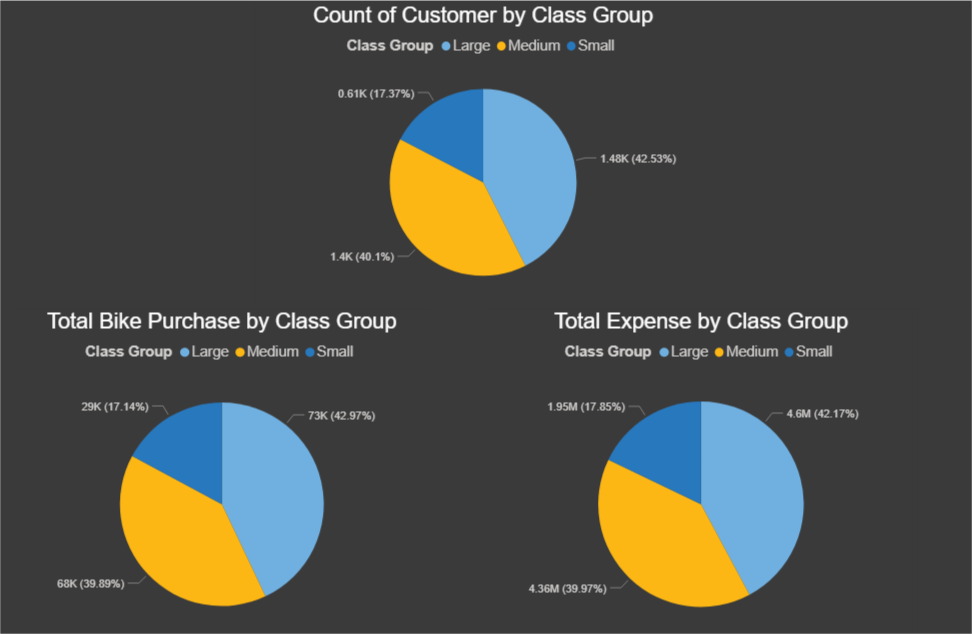

What the dashboard file says about the page in this screenshot:
{"tool":"powerbi","page":{"name":"TransactionsValue","canvas":[1280,720],"ordinal":2},"visuals":[{"type":"pieChart","title":"Count of Customer by Class Group","fields":{"Y":["CountNonNull(TransactionsValue.customer_id)"],"Series":["TransactionsValue.property_class"]},"box":[477,11,499.1,336.9],"z":0},{"type":"pieChart","title":"Total Bike Purchase by Class Group","fields":{"Y":["Sum(TransactionsValue.past_3_years_bike_related_purchases)"],"Series":["TransactionsValue.property_class"]},"box":[211,347.9,455,371.6],"z":1000},{"type":"pieChart","title":"Total Expense by Class Group","fields":{"Series":["TransactionsValue.property_class"],"Y":["Sum(TransactionsValue.total_expense)"]},"box":[727.4,347.9,475.5,371.6],"z":2000}]}

Visuals, with their boxes on the page's 1280x720 design canvas (x1, y1, x2, y2). These are canvas units, not pixel positions in the 972x634 screenshot, which may show the page scaled, cropped or inside an application window:
"Count of Customer by Class Group" pieChart: box(477, 11, 976, 348)
"Total Bike Purchase by Class Group" pieChart: box(211, 348, 666, 720)
"Total Expense by Class Group" pieChart: box(727, 348, 1203, 720)
